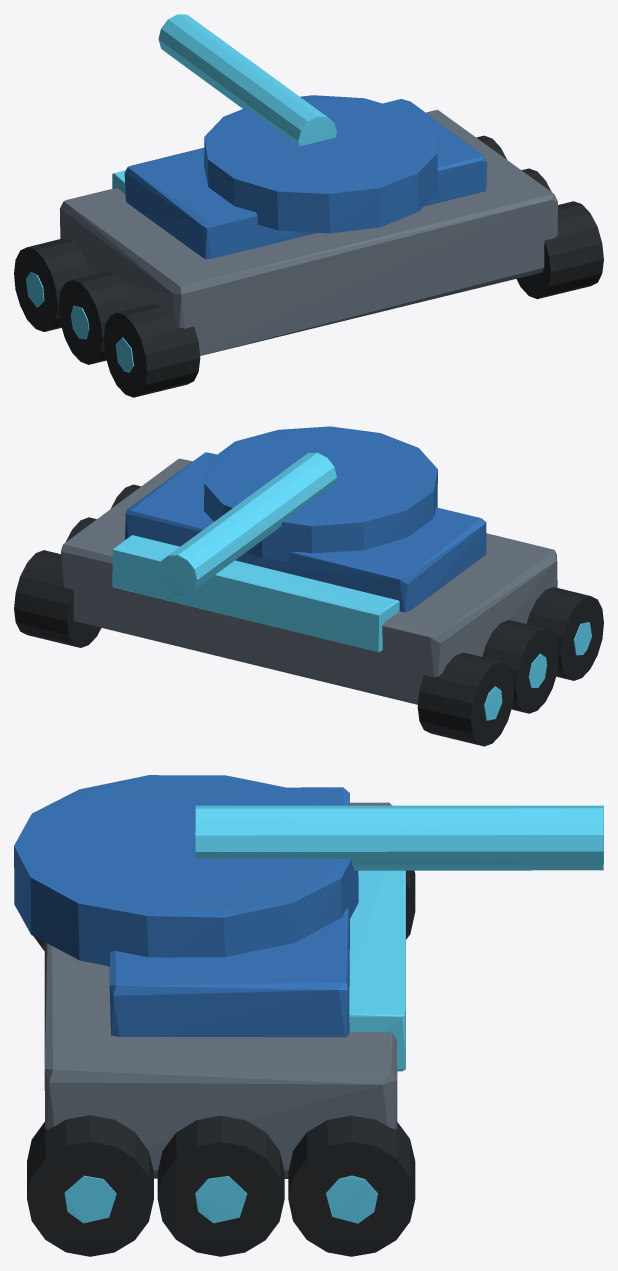
Rendered from SM_Alliance_AL_OracleArtillery_LOD2.fbx.
3 renders of one model, top to bottom at view 1: azimuth 30°, elevation 25°; view 2: azimuth 150°, elevation 25°; view 3: azimuth 270°, elevation 25°, orthographic. The views are drawn at different scales.
Parts seen in each view (by area): view 1: LOD02_SM_Alliance_AL_OracleArtillery; view 2: LOD02_SM_Alliance_AL_OracleArtillery; view 3: LOD02_SM_Alliance_AL_OracleArtillery.
Boxes of the visible parts, left/top/right/bottom form: LOD02_SM_Alliance_AL_OracleArtillery: left=14, top=14, right=603, bottom=397; LOD02_SM_Alliance_AL_OracleArtillery: left=14, top=426, right=603, bottom=746; LOD02_SM_Alliance_AL_OracleArtillery: left=14, top=775, right=603, bottom=1256.
Bounding box in the file's own units: 550 × 420 × 224.
